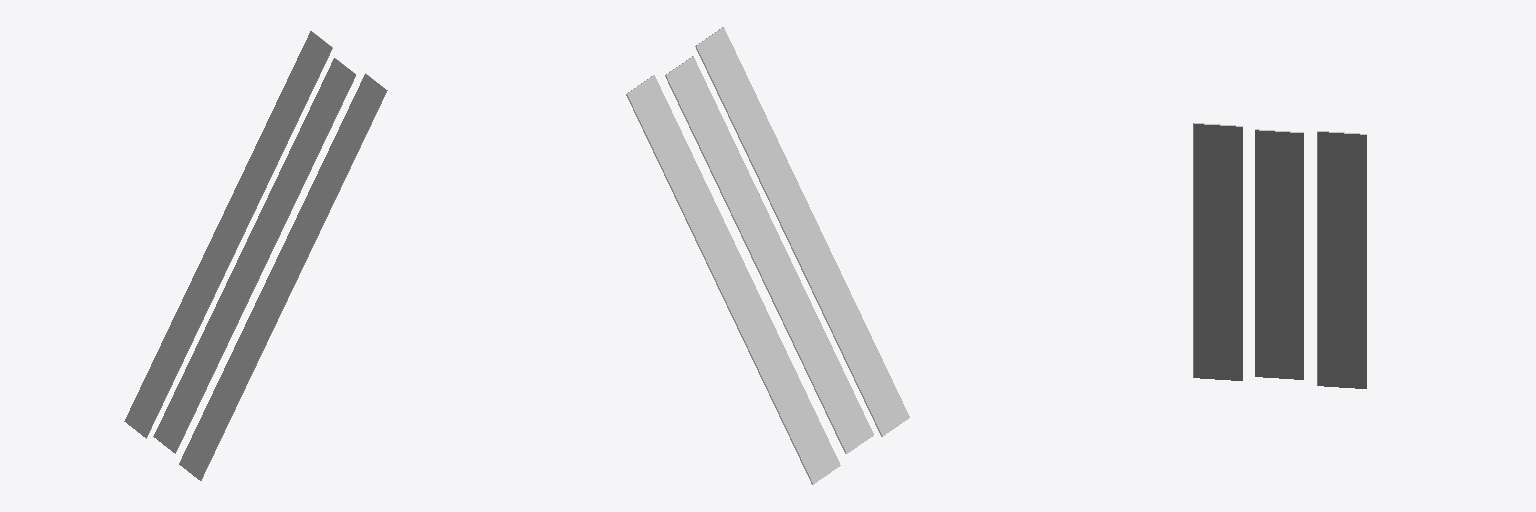
Rendered from parteFata.obj.
The picture shows the model from 3 angles: view 1: azimuth 30°, elevation 25°; view 2: azimuth 150°, elevation 25°; view 3: azimuth 270°, elevation 25°; orthographic projection.
Parts seen in each view (by area): view 1: Material39.071; view 2: Material39.071; view 3: Material39.071.
Boxes of the visible parts, box(x1,y1,x2,y2) form: Material39.071: box(124, 31, 387, 480); Material39.071: box(626, 27, 909, 484); Material39.071: box(1193, 123, 1366, 388).
Size of the model in its own units: 3.61 by 6.14 by 2.74.